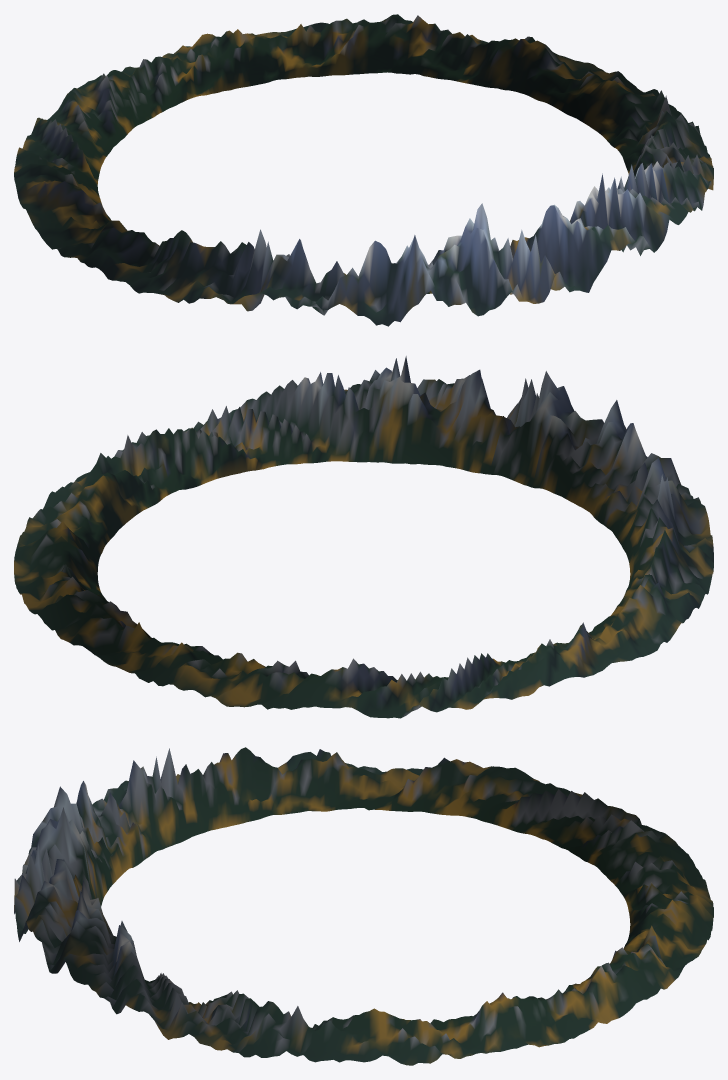
3 renders of one model, top to bottom at view 1: azimuth 30°, elevation 25°; view 2: azimuth 150°, elevation 25°; view 3: azimuth 270°, elevation 25°, orthographic.
Parts seen in each view (by area): view 1: L4_3_Ring; view 2: L4_3_Ring; view 3: L4_3_Ring.
Part boxes in pixels (x1=…): L4_3_Ring: x1=14, y1=14, x2=713, y2=326; L4_3_Ring: x1=14, y1=356, x2=713, y2=718; L4_3_Ring: x1=14, y1=747, x2=713, y2=1065.
Size of the model in its own units: 2840 by 460 by 2840.
